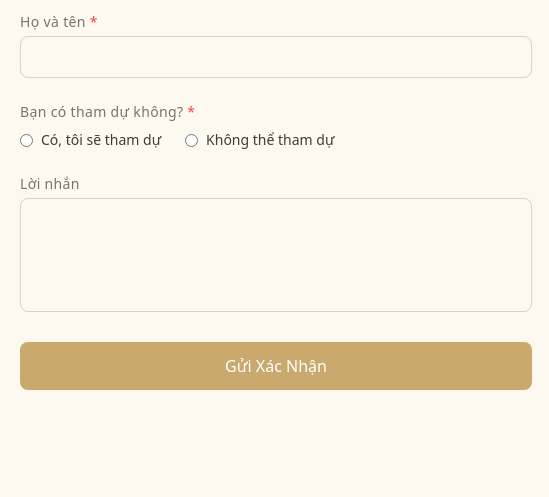
Test: RSVPForm › shows number of attendees select when attending is yes
The image size is (549, 497).
Click the radio button labelled "Có, tôi sẽ tham dự". click: (26, 140)
box: [20,134,33,146]
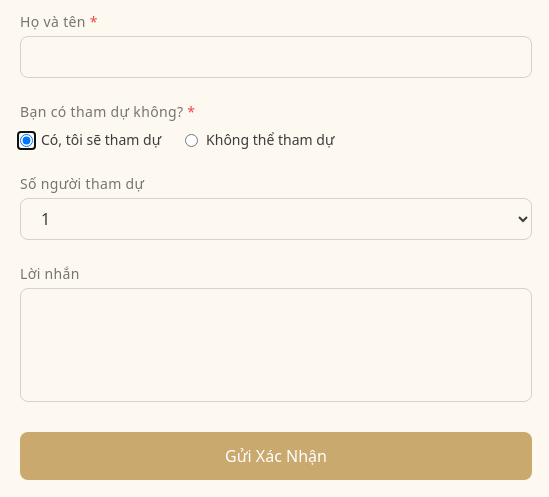
expect the dropdown labelled "Số người tham dự" is shown: met, box [20,198,532,240]
